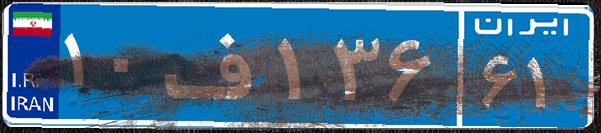0: (110, 28, 158, 105)
1: (273, 28, 330, 110), (57, 26, 110, 107), (525, 38, 570, 115)
3: (330, 28, 385, 110)
6: (385, 28, 445, 110), (475, 38, 525, 113)
ف: (158, 15, 273, 115)
